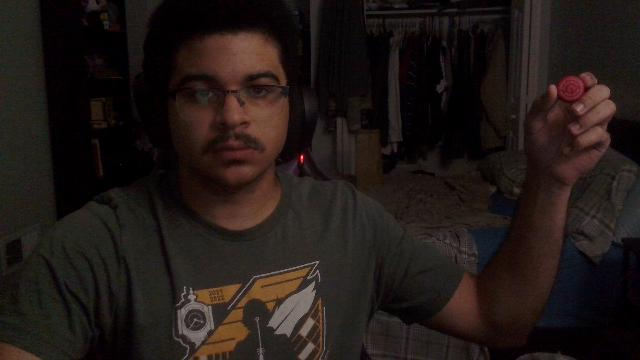cap: (558, 76, 584, 102)
